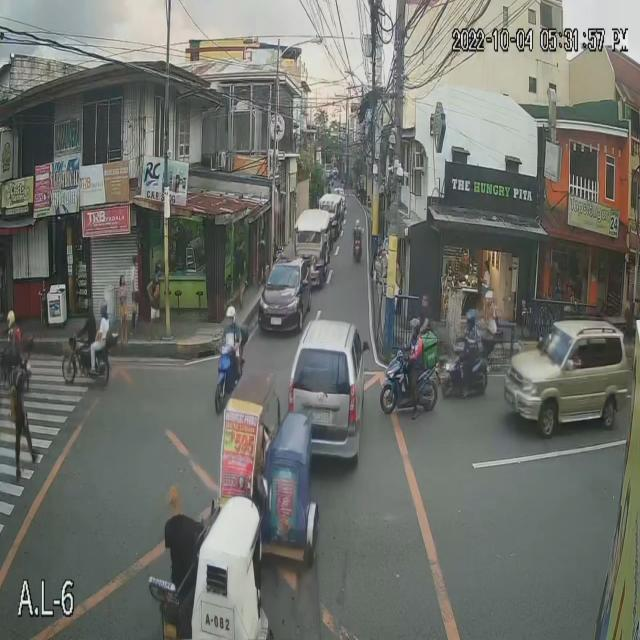half: (226, 304, 237, 327), (409, 318, 421, 338), (466, 310, 476, 330)
